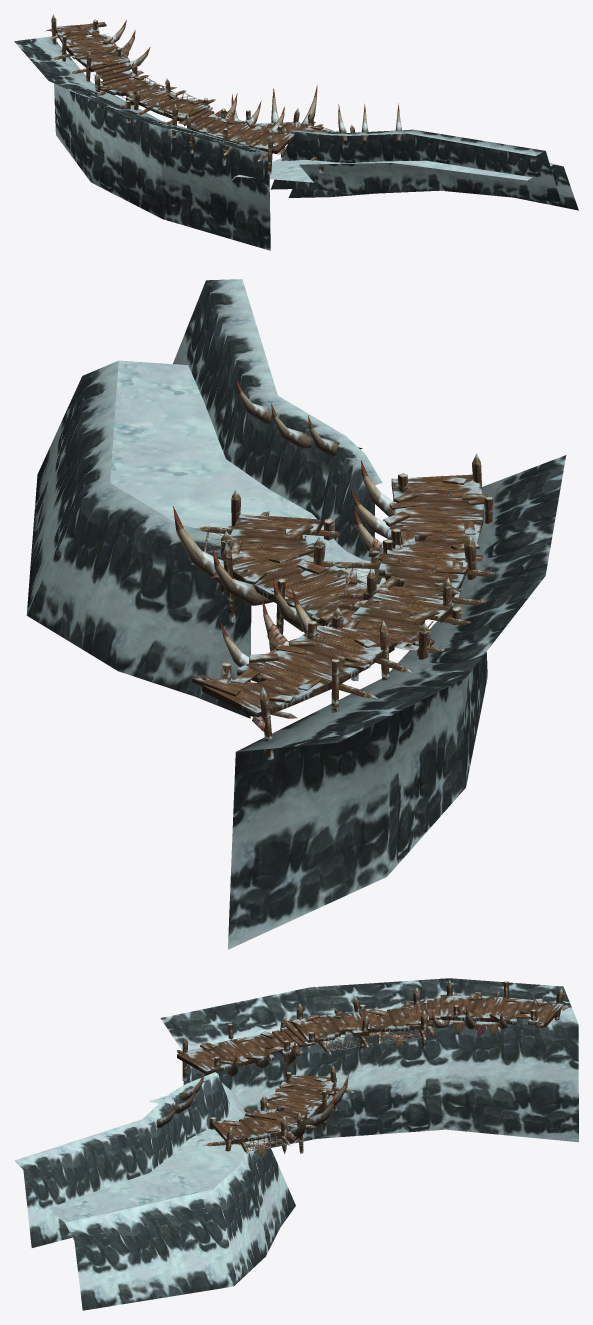
The model's file is dimian_section05_guanka04_1.FBX.
The picture shows the model from 3 angles, top to bottom: view 1: azimuth 30°, elevation 25°; view 2: azimuth 150°, elevation 25°; view 3: azimuth 270°, elevation 25°; orthographic projection. The views are drawn at different scales.
Parts seen in each view (by area): view 1: dimian_section05_guanka04_1; view 2: dimian_section05_guanka04_1; view 3: dimian_section05_guanka04_1.
Boxes of the visible parts, x1=… form: dimian_section05_guanka04_1: x1=14, y1=14, x2=578, y2=250; dimian_section05_guanka04_1: x1=26, y1=279, x2=566, y2=949; dimian_section05_guanka04_1: x1=14, y1=978, x2=578, y2=1310.
Bounding box in the file's own units: 78.27 × 88.66 × 27.97.
